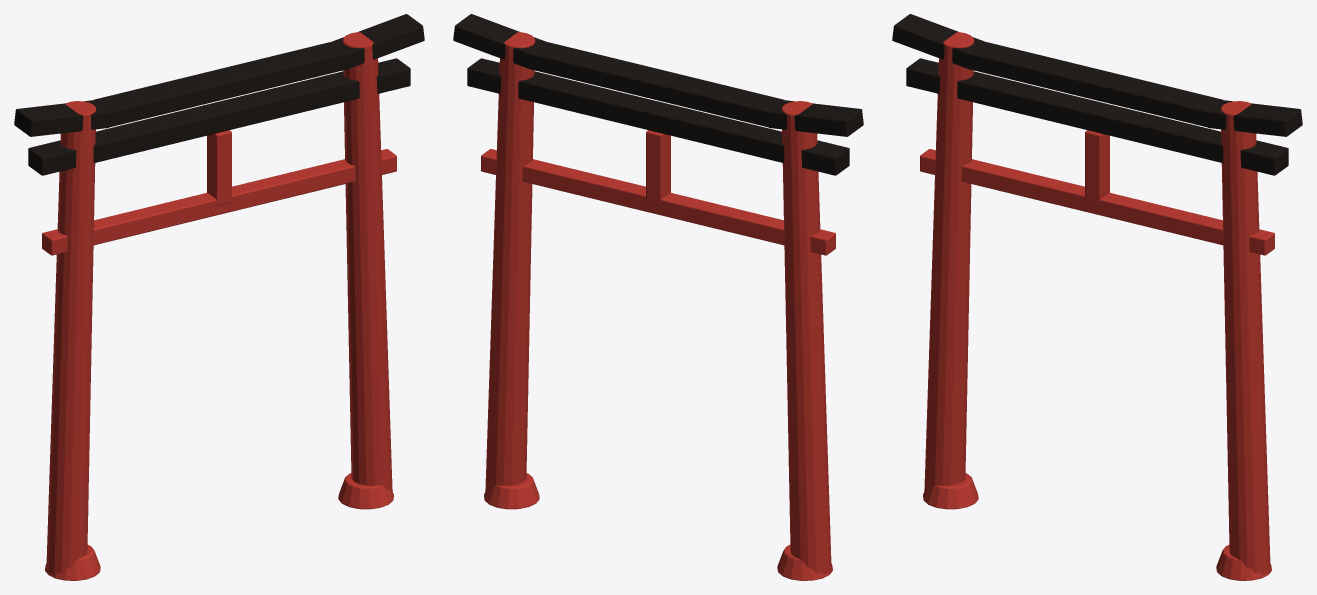
The model's file is prop_torii.glb.
3 renders of one model, left to right at view 1: azimuth 30°, elevation 25°; view 2: azimuth 150°, elevation 25°; view 3: azimuth 330°, elevation 25°, orthographic.
Visible parts, largest first — view 1: prop_torii; view 2: prop_torii; view 3: prop_torii.
Boxes of the visible parts, left/top/right/bottom form: prop_torii: left=14, top=14, right=424, bottom=580; prop_torii: left=453, top=14, right=863, bottom=580; prop_torii: left=892, top=14, right=1302, bottom=580.
Bounding box in the file's own units: 2.15 × 2.43 × 0.2661.
